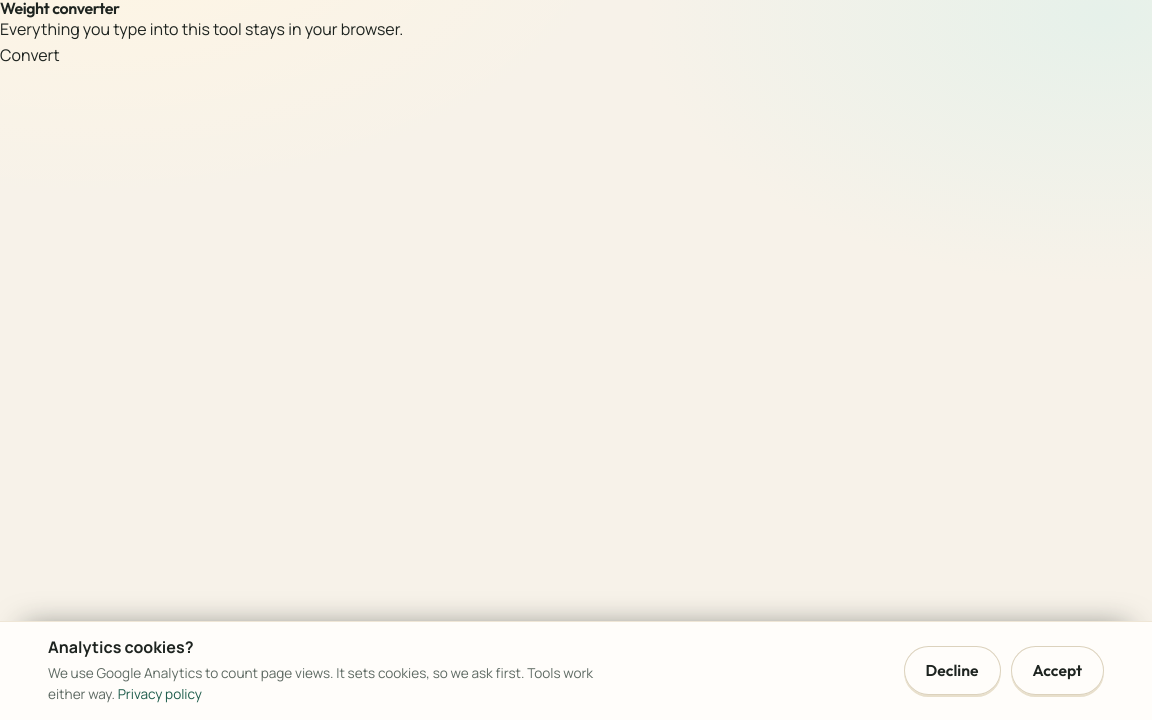
Test: ConsentBanner › disappears for the rest of the session when Accept is pressed
This screenshot has width=1152, height=720.
Click the button "Accept".
click(1057, 670)  # box [1010,646,1104,695]
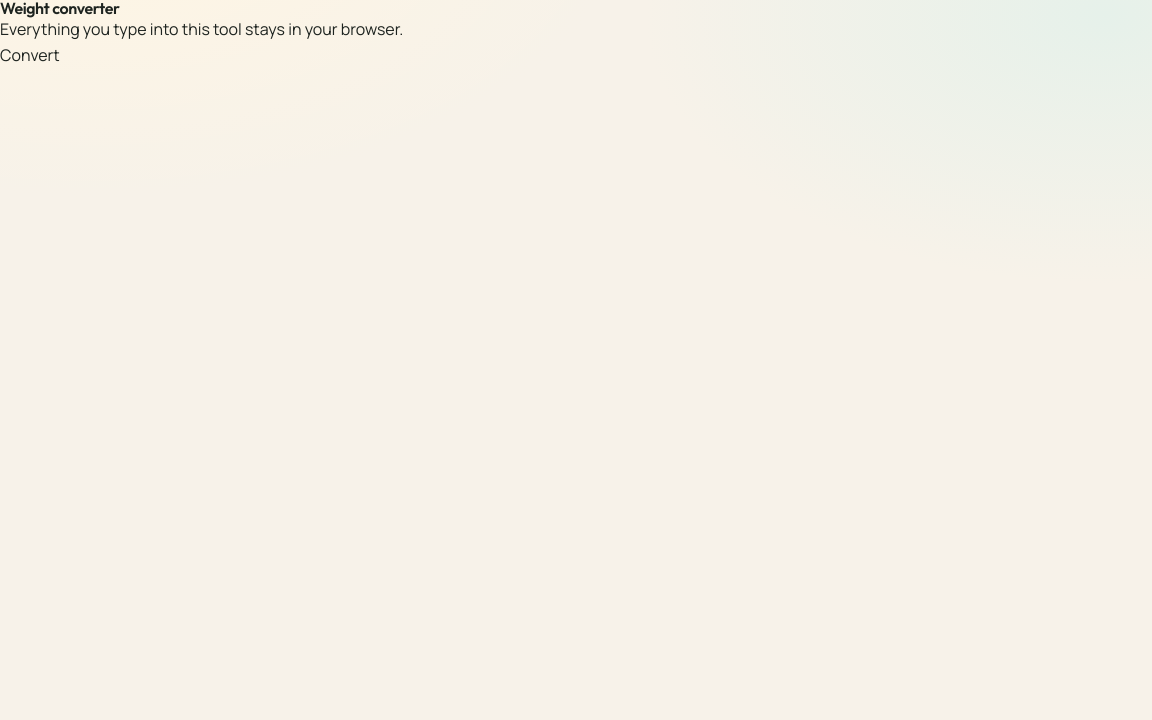
Result: the text "Analytics cookies?" is gone
